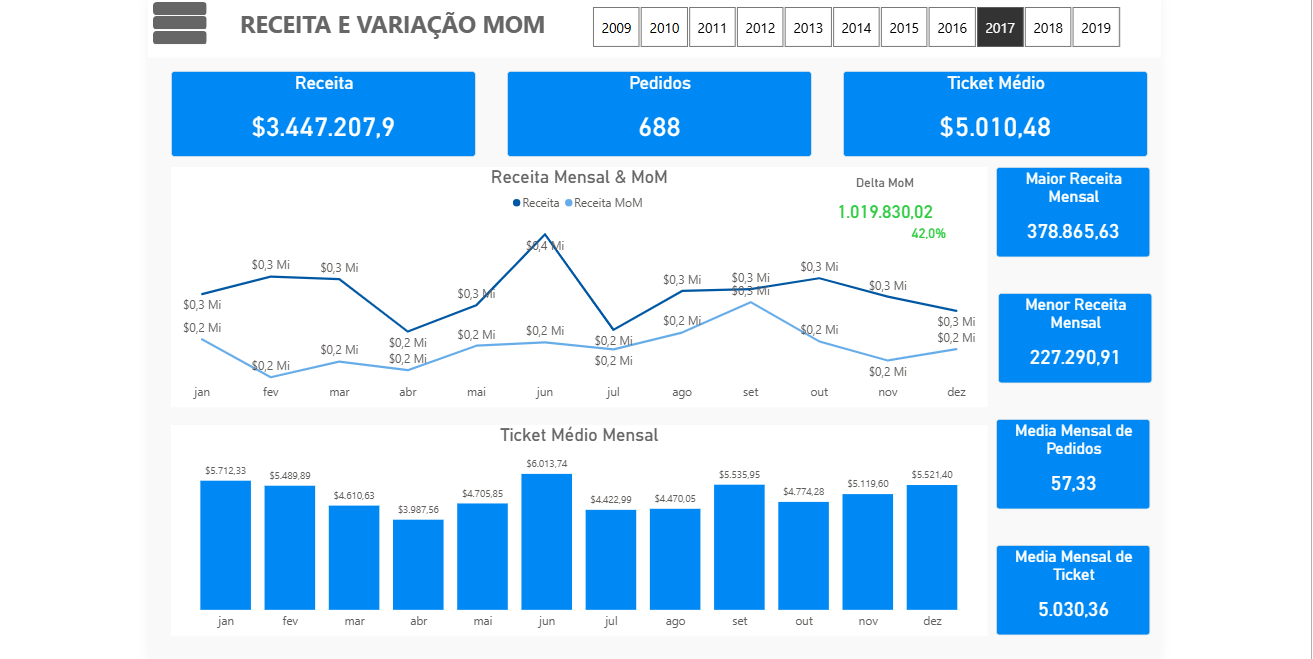

Layout of this report page (visuals, bound fields, positions):
{"tool":"powerbi","page":{"name":"ResumoVendas","canvas":[1380,900],"ordinal":0},"visuals":[{"type":"textbox","box":[0,0,1380,81.2],"z":0},{"type":"card","title":"Receita","fields":{"Values":["Medidas.Receita"]},"box":[31.7,100,415,116.7],"z":1000},{"type":"card","title":"Pedidos","fields":{"Values":["Medidas.Pedidos"]},"box":[489.2,100,415,116.7],"z":2000},{"type":"card","title":"Ticket Médio","fields":{"Values":["Medidas.Ticket Medio"]},"box":[946.7,100,415,116.7],"z":3000},{"type":"slicer","fields":{"Values":["Calendario.Ano"]},"box":[580,5,766.7,68.3],"z":4000},{"type":"lineChart","title":"Receita Mensal & MoM","fields":{"Category":["Calendario.Mes Abrev"],"Y":["Medidas.Receita","Medidas Temporais.Sales MoM"]},"box":[31.7,230,1111.7,326.7],"z":5000},{"type":"card","title":"Delta MoM %","fields":{"Values":["Medidas Temporais.Receita MoM Delta %"]},"box":[1018.3,300,88.3,41.7],"z":6000},{"type":"card","title":"Delta MoM","fields":{"Values":["Medidas Temporais.Receita MoM Delta"]},"box":[900,241.7,206.7,80],"z":7000},{"type":"clusteredColumnChart","title":"Ticket Médio Mensal","fields":{"Category":["Calendario.Mes Abrev"],"Y":["Medidas.Ticket Medio"]},"box":[31.7,581.7,1111.7,286.7],"z":8000},{"type":"card","title":"Maior Receita Mensal","fields":{"Values":["Medidas.Maior Receita Mensal"]},"box":[1155,230,210,123.3],"z":9000},{"type":"card","title":"Menor Receita Mensal","fields":{"Values":["Medidas.Menor Receita Mensal"]},"box":[1156.7,401.7,210,123.3],"z":10000},{"type":"card","title":"Media Mensal de Pedidos","fields":{"Values":["Medidas.Media Mensal dos Pedidos"]},"box":[1155,573.3,210,123.3],"z":11000},{"type":"card","title":"Media Mensal de Ticket","fields":{"Values":["Medidas.Media Mensal de Ticket Medio"]},"box":[1155,745,210,123.3],"z":13000},{"type":"shape","box":[6.7,5,73.3,18],"z":15000},{"type":"shape","box":[6.7,25,73.3,18.3],"z":16000},{"type":"shape","box":[6.7,45,73.3,18.3],"z":17000},{"type":"actionButton","box":[0,0,113.3,73.3],"z":18000}]}

Visuals, with their boxes on the page's 1380x900 design canvas (x1, y1, x2, y2). These are canvas units, not pixel positions in the 1313x659 screenshot, which may show the page scaled, cropped or inside an application window:
textbox: locate(0, 0, 1380, 81)
"Receita" card: locate(32, 100, 447, 217)
"Pedidos" card: locate(489, 100, 904, 217)
"Ticket Médio" card: locate(947, 100, 1362, 217)
slicer - Calendario.Ano: locate(580, 5, 1347, 73)
"Receita Mensal & MoM" lineChart: locate(32, 230, 1143, 557)
"Delta MoM %" card: locate(1018, 300, 1107, 342)
"Delta MoM" card: locate(900, 242, 1107, 322)
"Ticket Médio Mensal" clusteredColumnChart: locate(32, 582, 1143, 868)
"Maior Receita Mensal" card: locate(1155, 230, 1365, 353)
"Menor Receita Mensal" card: locate(1157, 402, 1367, 525)
"Media Mensal de Pedidos" card: locate(1155, 573, 1365, 697)
"Media Mensal de Ticket" card: locate(1155, 745, 1365, 868)
shape: locate(7, 5, 80, 23)
shape: locate(7, 25, 80, 43)
shape: locate(7, 45, 80, 63)
actionButton: locate(0, 0, 113, 73)
